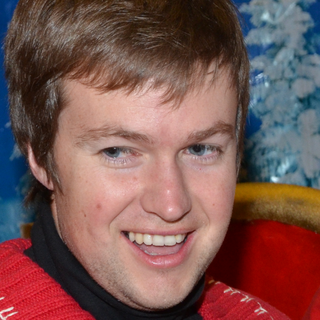eye: (177, 139, 223, 164), (92, 141, 139, 165)
